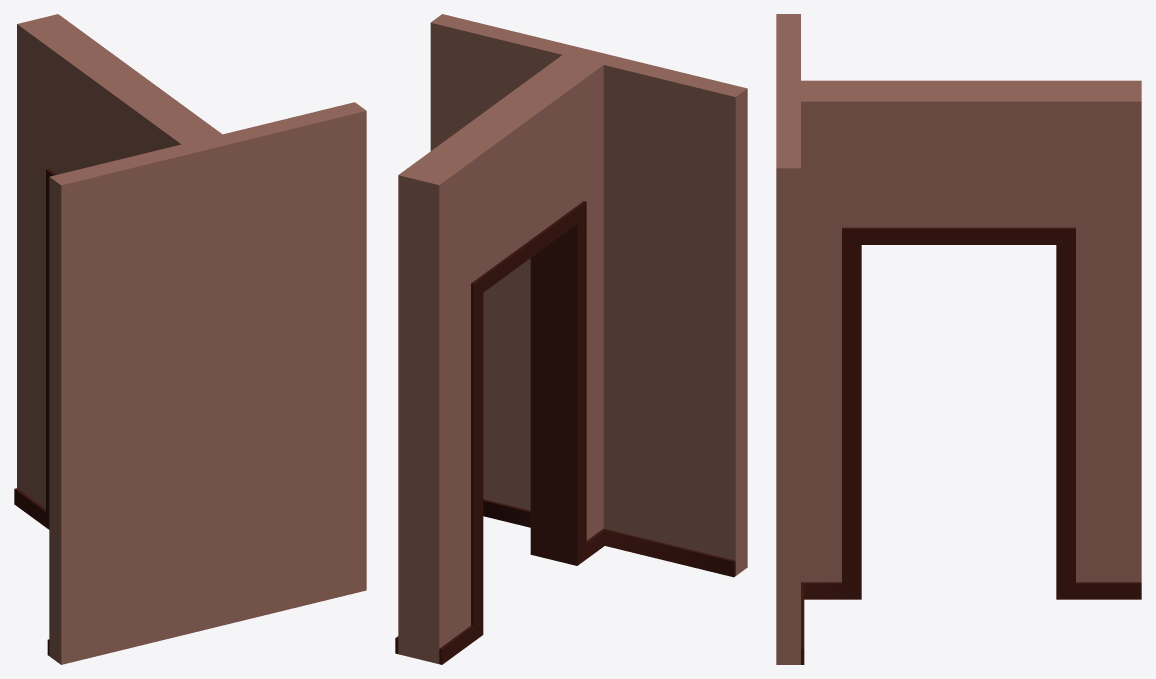
Rendered from T_Porte_06.fbx.
The picture shows the model from 3 angles, left to right: view 1: azimuth 30°, elevation 25°; view 2: azimuth 150°, elevation 25°; view 3: azimuth 270°, elevation 25°; orthographic projection. The views are drawn at different scales.
Parts seen in each view (by area): view 1: T_Porte_06; view 2: T_Porte_06; view 3: T_Porte_06.
Boxes of the visible parts, bbox=[...] form: T_Porte_06: bbox=[14, 14, 366, 664]; T_Porte_06: bbox=[395, 14, 747, 664]; T_Porte_06: bbox=[776, 14, 1141, 664].
Bounding box in the file's own units: 200 × 300 × 200.
